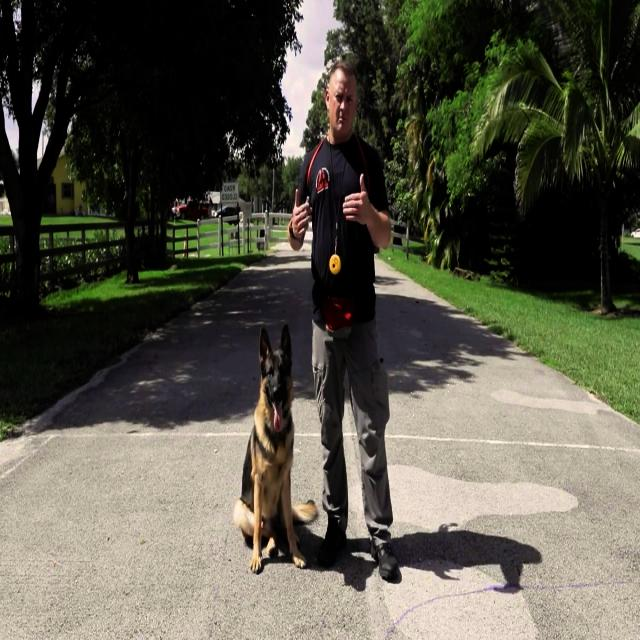Unleashed_Dog: (235, 312, 362, 574)
